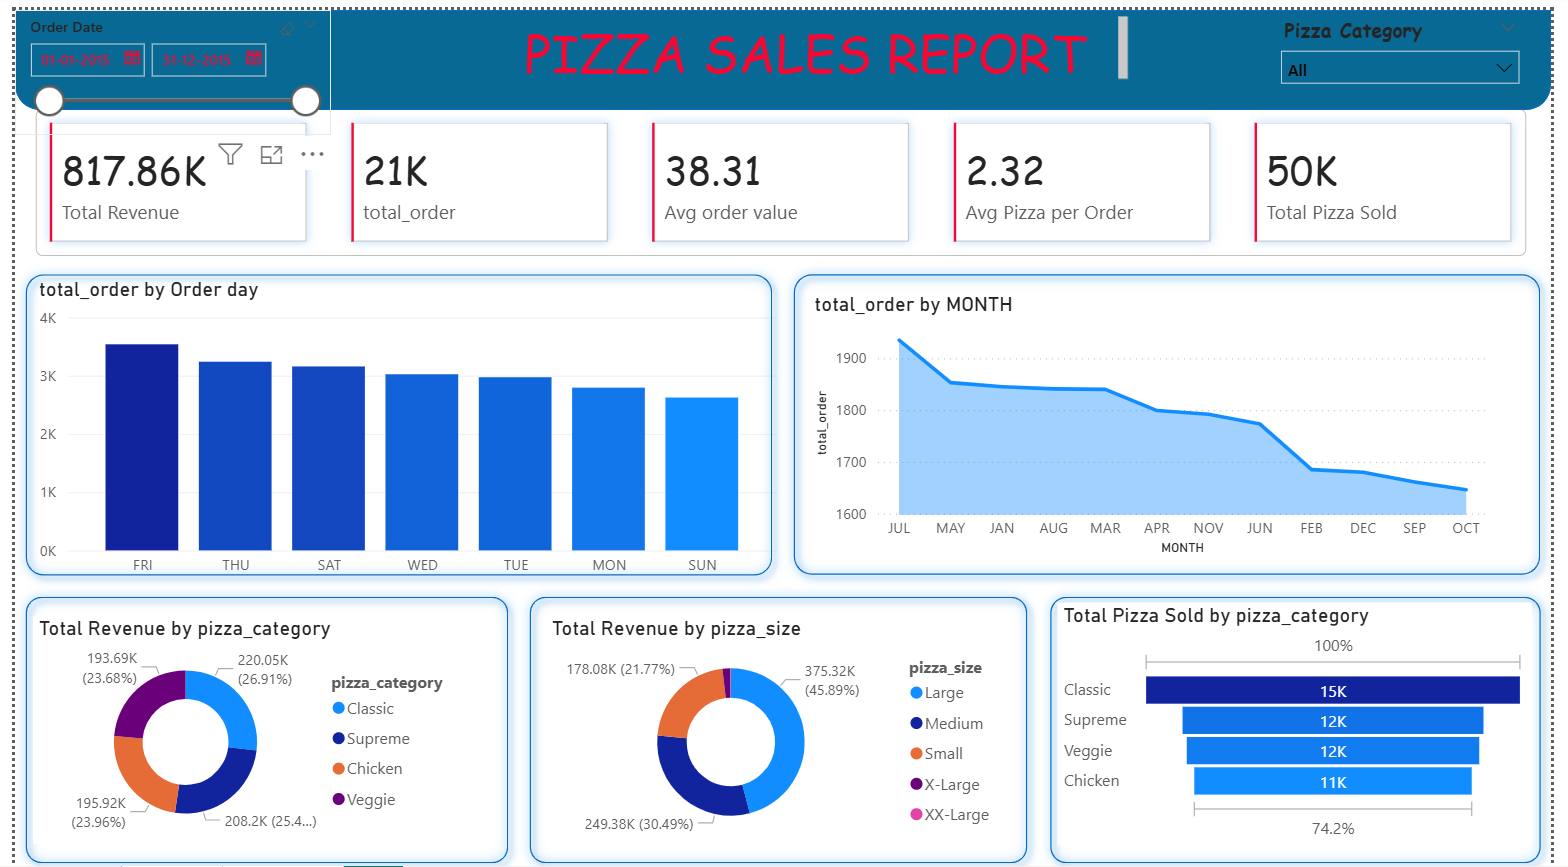

What the dashboard file says about the page in this screenshot:
{"tool":"powerbi","page":{"name":"BEST","canvas":[1280,720],"ordinal":0},"visuals":[{"type":"cardVisual","fields":{"Data":["pizza_sales.Total Revenue","pizza_sales.total_order","pizza_sales.Avg order value","pizza_sales.Avg Pizza per Order","pizza_sales.Total Pizza Sold"]},"box":[0,65,1280,175],"z":0},{"type":"shape","box":[0,0,1280,83.3],"z":1000},{"type":"textbox","box":[420,0,512,66],"z":2000},{"type":"shape","box":[640,211.7,640,268.3],"z":3000},{"type":"columnChart","fields":{"Y":["pizza_sales.total_order"],"Category":["pizza_sales.Order day"]},"box":[15,222.5,625,257.5],"z":4000},{"type":"areaChart","fields":{"Category":["pizza_sales.MONTH"],"Y":["pizza_sales.total_order"]},"box":[661.7,235,570,223.3],"z":5000},{"type":"shape","box":[0,211.7,640,268.3],"z":6000},{"type":"shape","box":[0,480,420,240],"z":7000},{"type":"donutChart","fields":{"Y":["pizza_sales.Total Revenue"],"Category":["pizza_sales.pizza_category"]},"box":[15,505,362.5,190],"z":8000},{"type":"shape","box":[420,480,432.5,240],"z":9000},{"type":"shape","box":[853.3,480,426.7,240],"z":10000},{"type":"donutChart","fields":{"Y":["pizza_sales.Total Revenue"],"Category":["pizza_sales.pizza_size"]},"box":[442.5,505,387.5,190],"z":11000},{"type":"funnel","fields":{"Y":["pizza_sales.Total Pizza Sold"],"Category":["pizza_sales.pizza_category"]},"box":[868.3,493.3,395,201.7],"z":12000},{"type":"slicer","fields":{"Values":["pizza_sales.pizza_category"]},"box":[1045,0,218.3,65],"z":13000},{"type":"slicer","fields":{"Values":["pizza_sales.order_date"]},"box":[0,0,263.3,103.3],"z":14000}]}

Visuals, with their boxes in screenshot pixels (x1, y1, x2, y2), scaled from the page's 1280x720 canvas onto the 1568x867 screenshot:
cardVisual - pizza_sales.Total Revenue x pizza_sales.total_order: (x1=0, y1=78, x2=1567, y2=289)
shape: (x1=0, y1=0, x2=1567, y2=100)
textbox: (x1=514, y1=0, x2=1142, y2=79)
shape: (x1=784, y1=255, x2=1567, y2=578)
columnChart - pizza_sales.total_order x pizza_sales.Order day: (x1=18, y1=268, x2=784, y2=578)
areaChart - pizza_sales.MONTH x pizza_sales.total_order: (x1=811, y1=283, x2=1509, y2=552)
shape: (x1=0, y1=255, x2=784, y2=578)
shape: (x1=0, y1=578, x2=514, y2=866)
donutChart - pizza_sales.Total Revenue x pizza_sales.pizza_category: (x1=18, y1=608, x2=462, y2=837)
shape: (x1=514, y1=578, x2=1044, y2=866)
shape: (x1=1045, y1=578, x2=1567, y2=866)
donutChart - pizza_sales.Total Revenue x pizza_sales.pizza_size: (x1=542, y1=608, x2=1017, y2=837)
funnel - pizza_sales.Total Pizza Sold x pizza_sales.pizza_category: (x1=1064, y1=594, x2=1548, y2=837)
slicer - pizza_sales.pizza_category: (x1=1280, y1=0, x2=1548, y2=78)
slicer - pizza_sales.order_date: (x1=0, y1=0, x2=323, y2=124)
